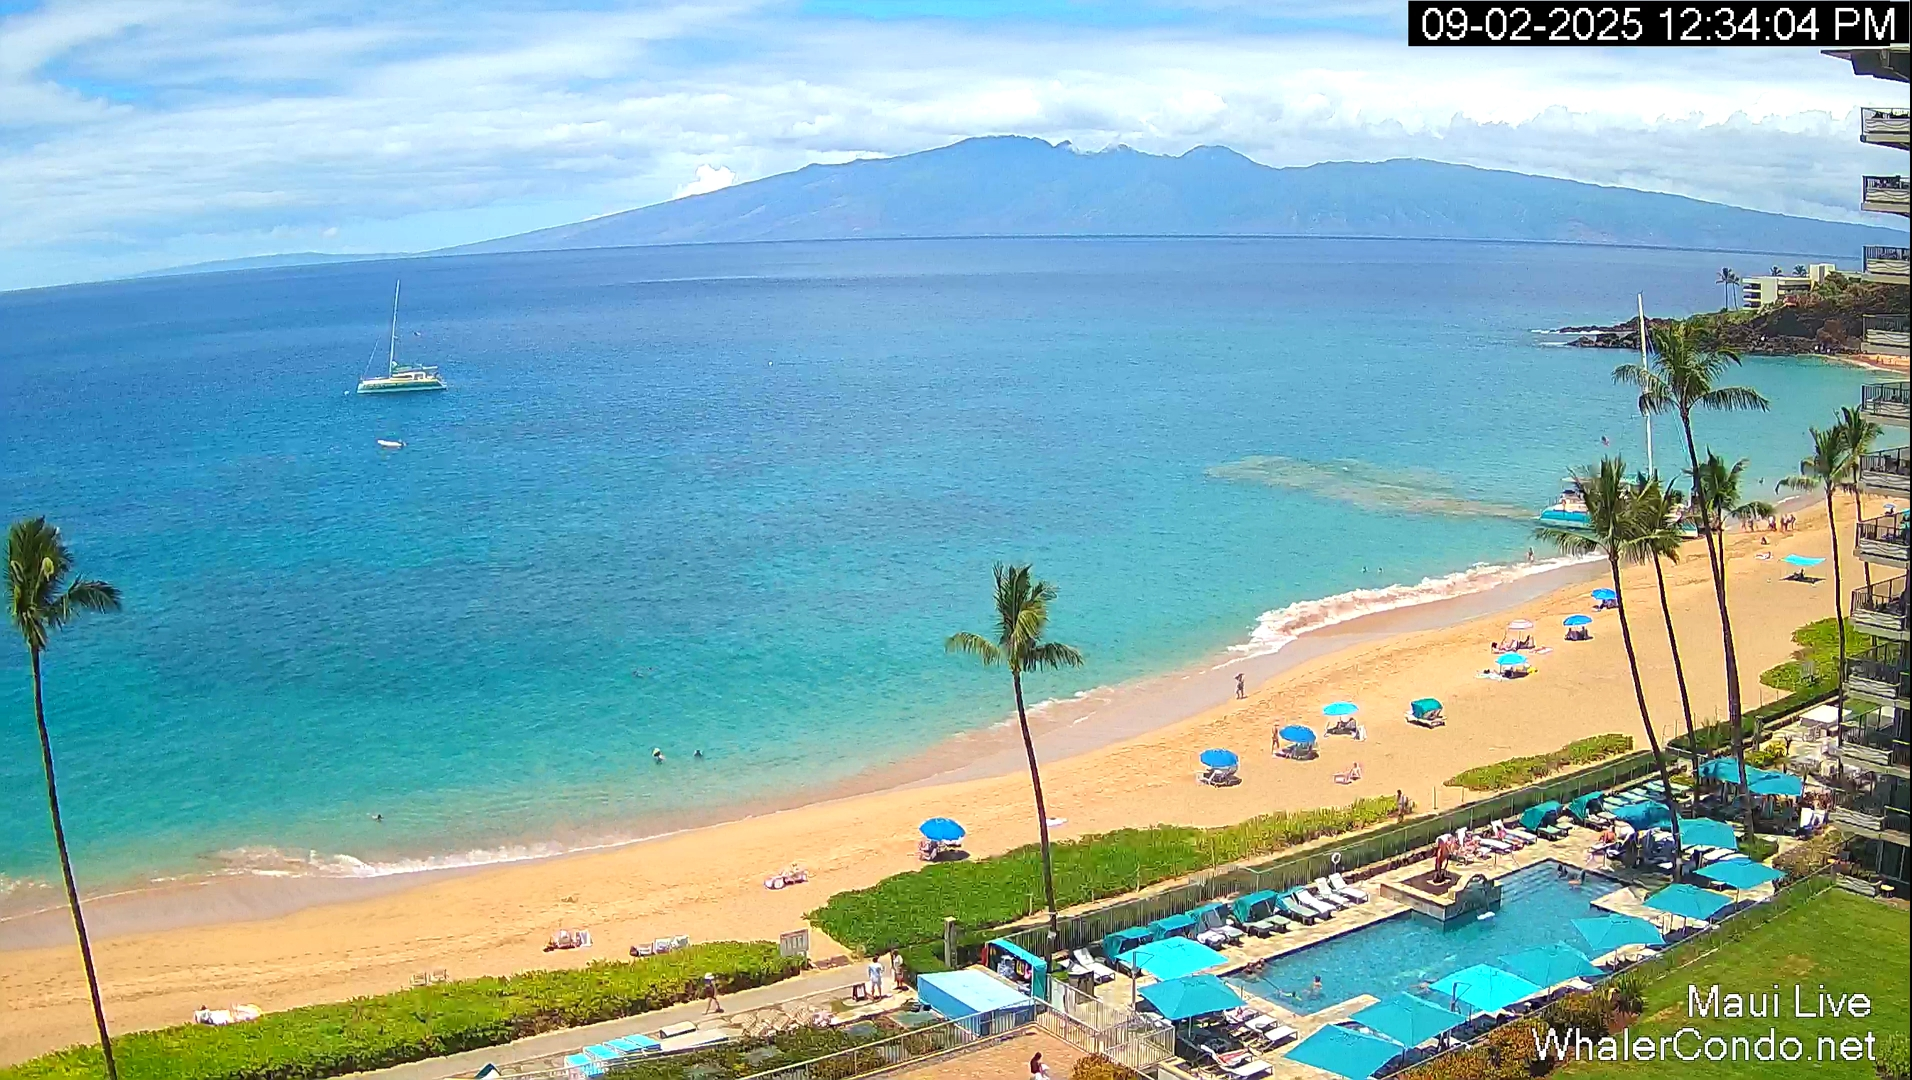boat: (356, 279, 448, 395), (1539, 489, 1592, 527)
person: (702, 977, 725, 1015), (868, 954, 885, 998), (891, 949, 906, 989), (1029, 1051, 1050, 1079), (1395, 789, 1407, 824), (1233, 672, 1246, 700), (652, 748, 666, 765), (1569, 628, 1580, 640), (1769, 515, 1777, 531), (1313, 975, 1322, 989), (1780, 515, 1787, 532), (1580, 626, 1588, 640), (1790, 513, 1796, 531), (1565, 628, 1574, 640), (693, 749, 704, 758), (1528, 547, 1534, 563), (374, 814, 383, 821)
